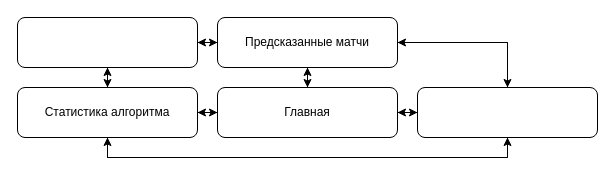
Some shapes in this 615 by 183 pixel diagram are drawn without their labels. Here are the shapes that lost their labels. From the top down, the centre of each, then its label:
pixel 107 42: Статистика команды
pixel 507 112: Поддержать
